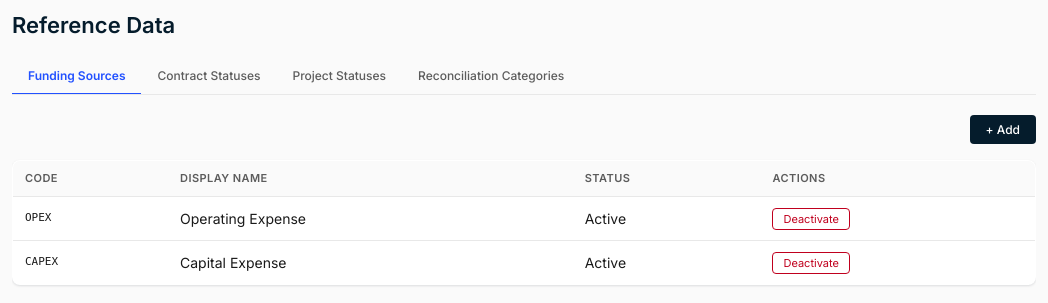
Test: AdminReferenceData › clicking Contract Statuses tab shows contract statuses
Expected: the text "OPEX" is shown, [12,196,168,240]
Click the button "Contract Statuses".
click(209, 77)  # box [142,58,276,95]
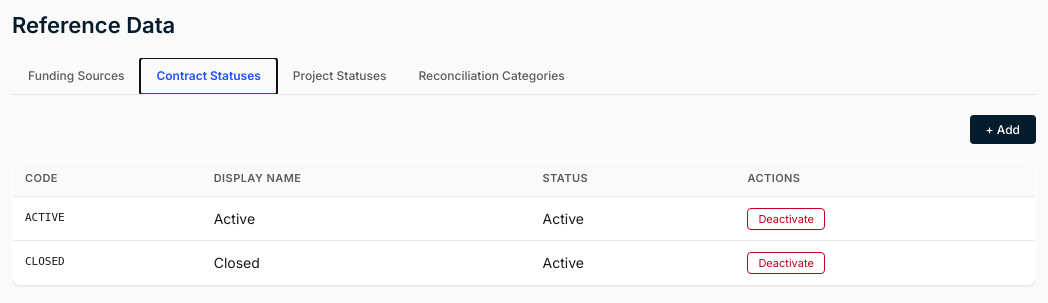
Expected: the text "ACTIVE" is shown, [12,196,202,240]
Expected: the text "CLOSED" is shown, [12,240,202,284]
